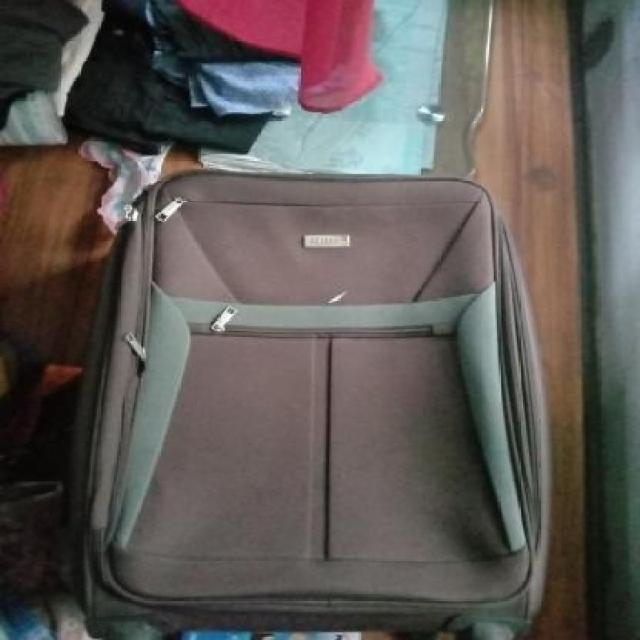backpack: (63, 161, 558, 640)
